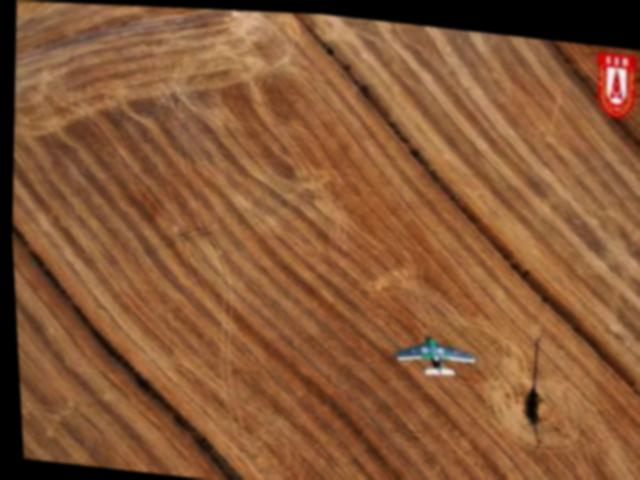uav: (382, 325, 477, 376)
